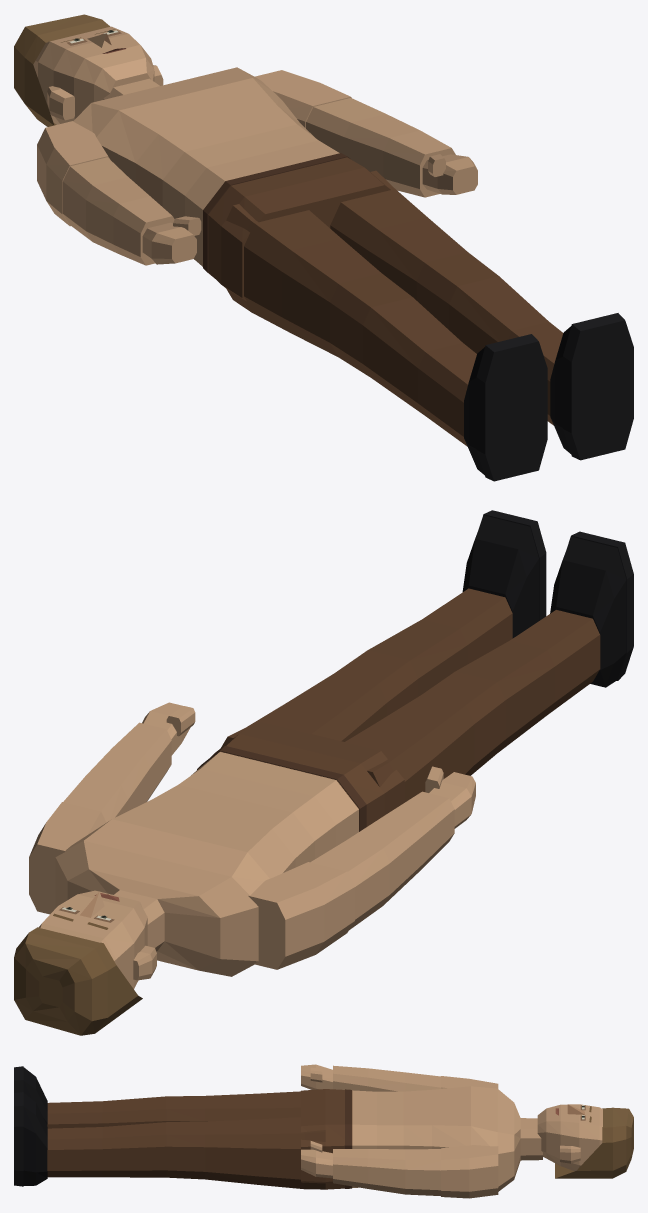
File: dima_witout_red_t-shirt.glb
3 views of the same model, one above another, from view 1: azimuth 30°, elevation 25°; view 2: azimuth 150°, elevation 25°; view 3: azimuth 270°, elevation 25° (orthographic). The views are drawn at different scales.
Visible parts, largest first — view 1: Passenger_Lying_Shirtless; view 2: Passenger_Lying_Shirtless; view 3: Passenger_Lying_Shirtless.
Boxes of the visible parts, x1,y1,x2,y2 form: Passenger_Lying_Shirtless: (14,14,633,481); Passenger_Lying_Shirtless: (14,510,633,1035); Passenger_Lying_Shirtless: (14,1064,633,1198).
Size of the model in its own units: 0.642 by 0.269 by 1.75.
Materials: 1 (1 with a texture image).
